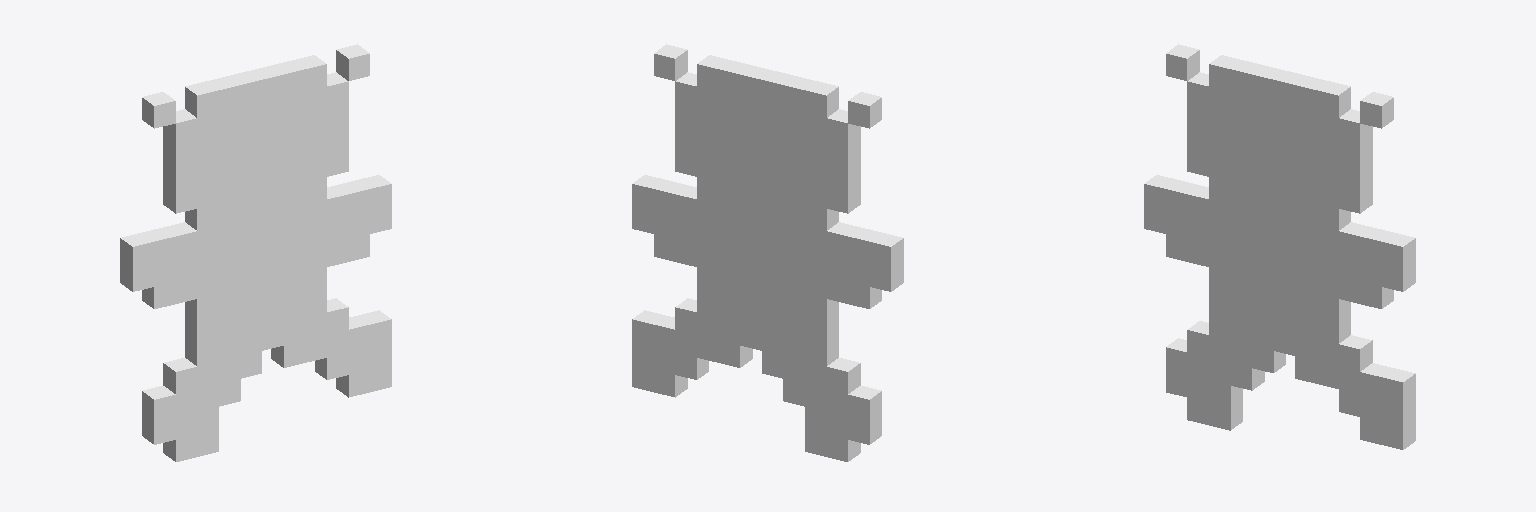
The model's file is Climb2.obj.
3 views of the same model, side by side, from view 1: azimuth 30°, elevation 25°; view 2: azimuth 150°, elevation 25°; view 3: azimuth 330°, elevation 25° (orthographic).
Visible parts, largest first — view 1: object 1; view 2: object 1; view 3: object 1.
Boxes of the visible parts, box(x1,y1,x2,y2) form: object 1: box(120, 44, 391, 461); object 1: box(632, 44, 903, 461); object 1: box(1144, 44, 1415, 449).
Size of the model in its own units: 1.2 by 1.6 by 0.1.